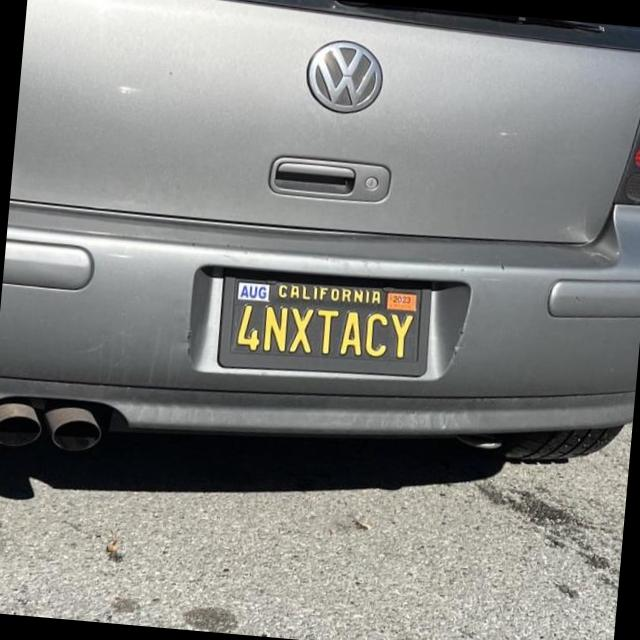LicensePlate: (217, 265, 435, 378)
